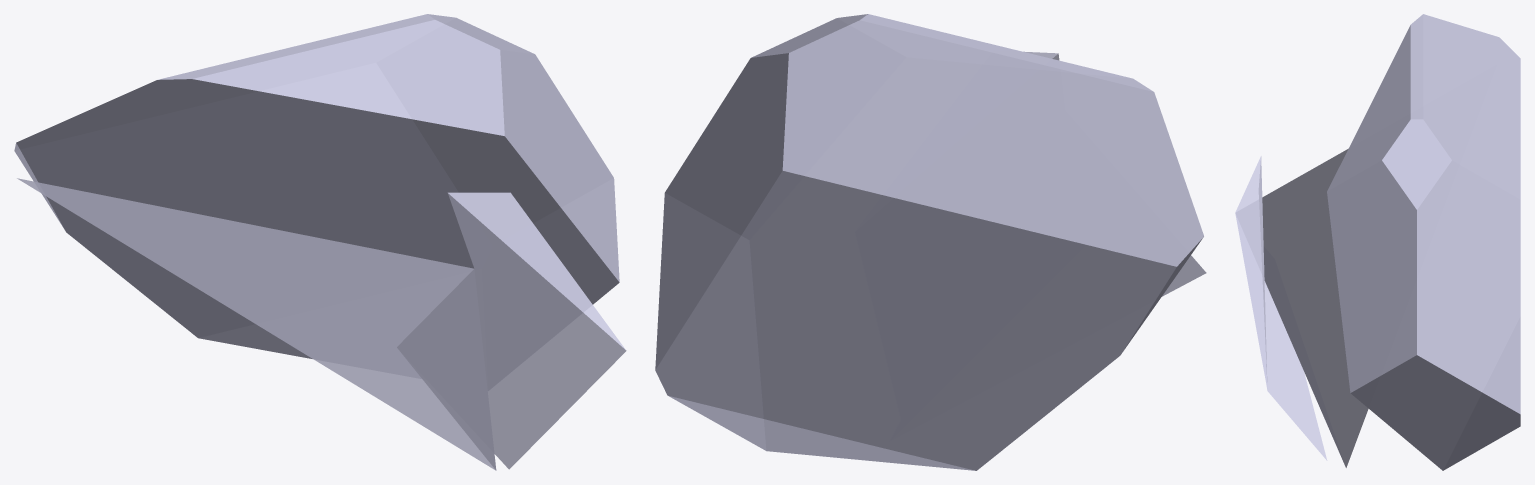
Rendered from quartz-japan-twin.obj.
3 renders of one model, left to right at view 1: azimuth 30°, elevation 25°; view 2: azimuth 150°, elevation 25°; view 3: azimuth 270°, elevation 25°, orthographic. The views are drawn at different scales.
Size of the model in its own units: 2.43 by 1.81 by 1.38.
